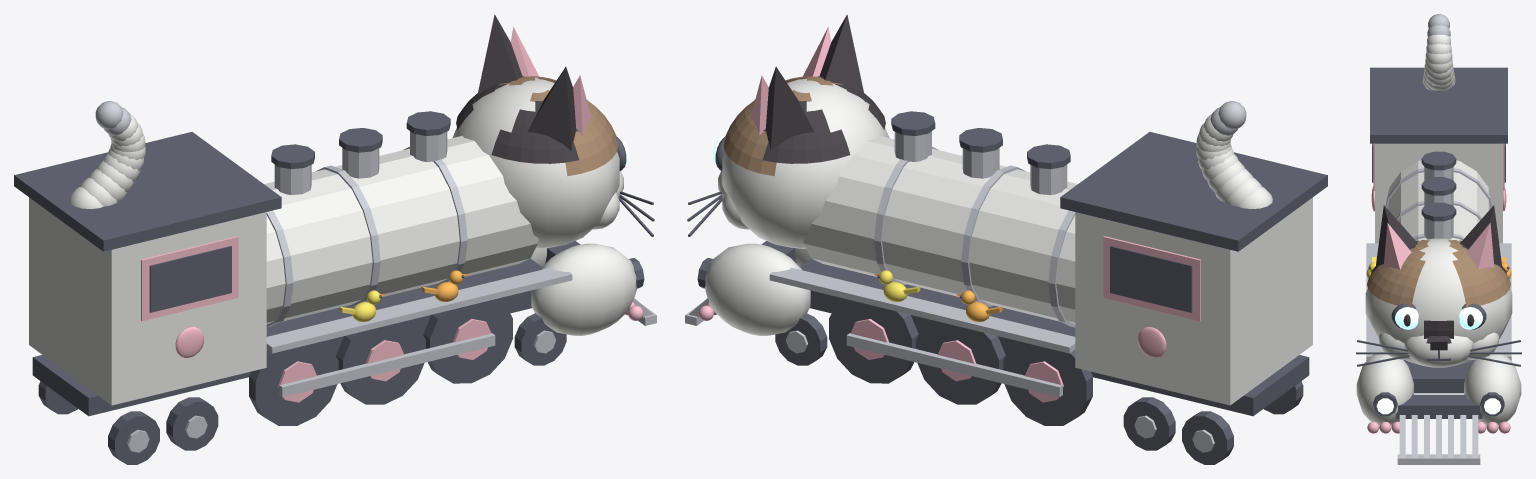
File: Locomotive_Cat.fbx
3 views of the same model, side by side, from view 1: azimuth 30°, elevation 25°; view 2: azimuth 150°, elevation 25°; view 3: azimuth 270°, elevation 25° (orthographic). The views are drawn at different scales.
Visible parts, largest first — view 1: Locomotive_Cat; view 2: Locomotive_Cat; view 3: Locomotive_Cat.
Part boxes in pixels (bbox=[...]): Locomotive_Cat: bbox=[14, 14, 656, 464]; Locomotive_Cat: bbox=[685, 14, 1327, 464]; Locomotive_Cat: bbox=[1356, 14, 1521, 464].
Size of the model in its own units: 5.9 by 3.28 by 1.92.
